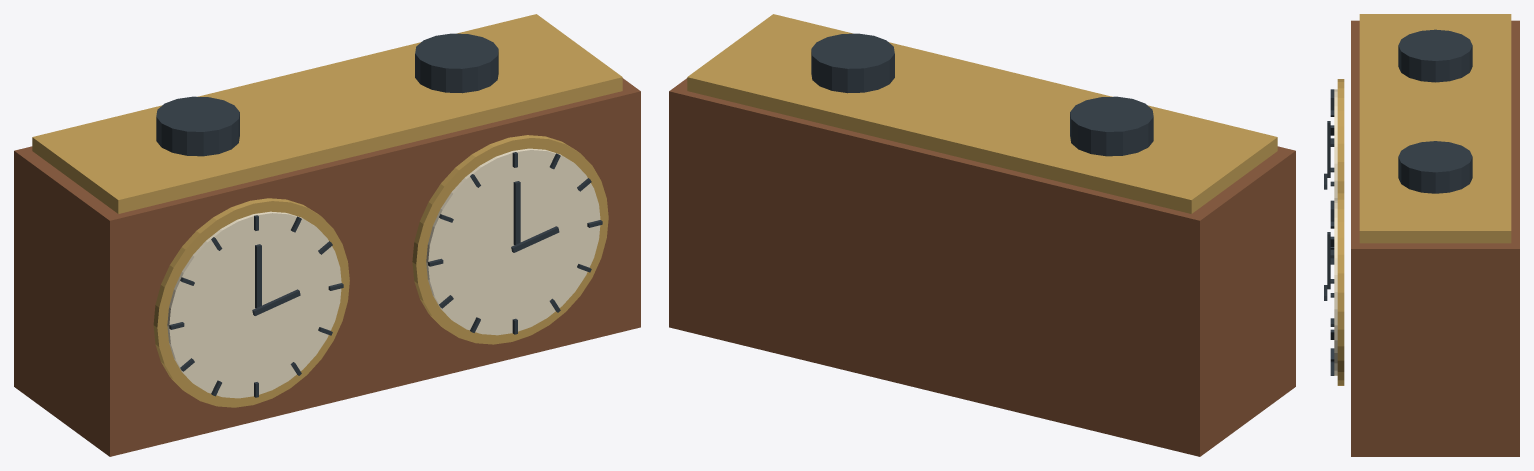
File: clock.glb
The picture shows the model from 3 angles, left to right: view 1: azimuth 30°, elevation 25°; view 2: azimuth 150°, elevation 25°; view 3: azimuth 270°, elevation 25°; orthographic projection. The views are drawn at different scales.
Visible parts, largest first — view 1: clock, clock-button-left, clock-button-right; view 2: clock, clock-button-left, clock-button-right; view 3: clock, clock-button-left, clock-button-right.
Boxes of the visible parts, bbox=[...] form: clock: bbox=[14, 14, 640, 456]; clock-button-left: bbox=[156, 96, 239, 156]; clock-button-right: bbox=[415, 33, 498, 93]; clock: bbox=[669, 14, 1295, 456]; clock-button-left: bbox=[1070, 96, 1153, 156]; clock-button-right: bbox=[811, 33, 894, 93]; clock: bbox=[1324, 14, 1519, 456]; clock-button-left: bbox=[1398, 29, 1472, 82]; clock-button-right: bbox=[1398, 141, 1472, 193].
Size of the model in its own units: 0.16 by 0.079 by 0.058.
